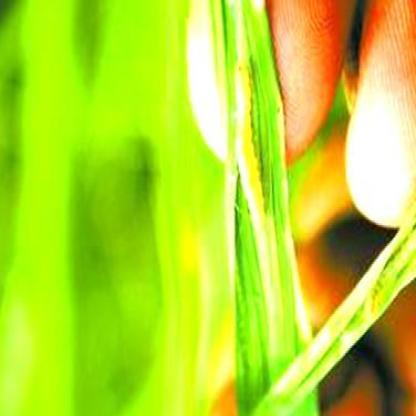leaf-folder: (220, 30, 297, 278), (364, 228, 416, 350)
